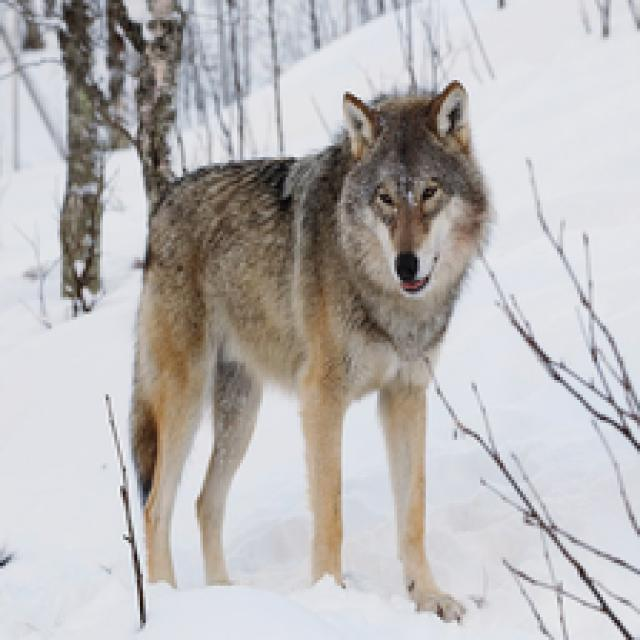wolf: (105, 74, 514, 597)
